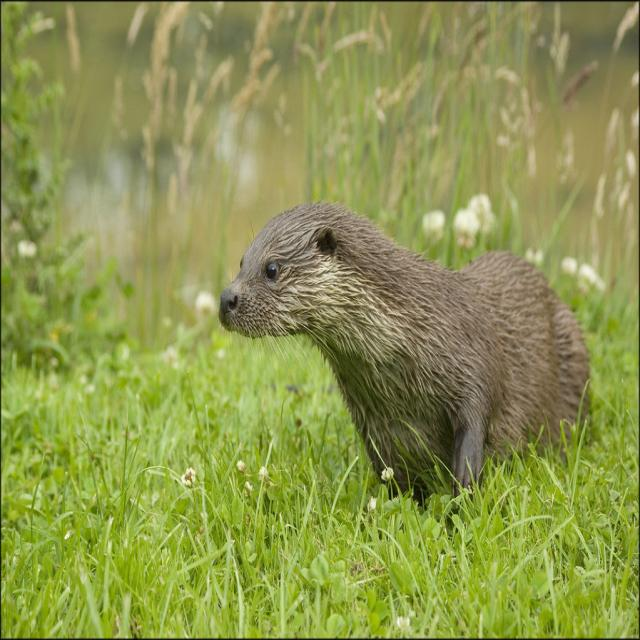otter: (220, 203, 591, 489)
